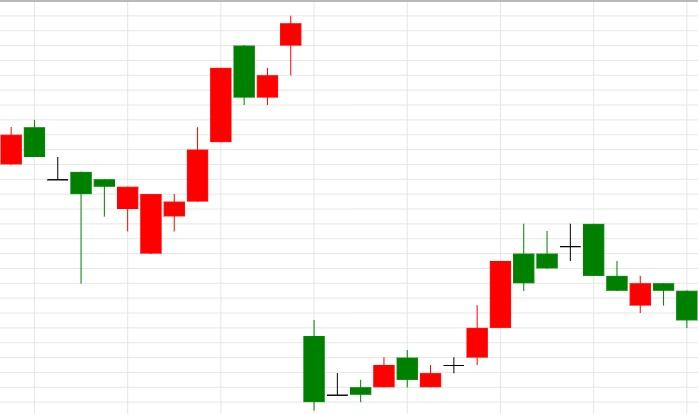hanging_man_fall: (164, 15, 302, 232)
